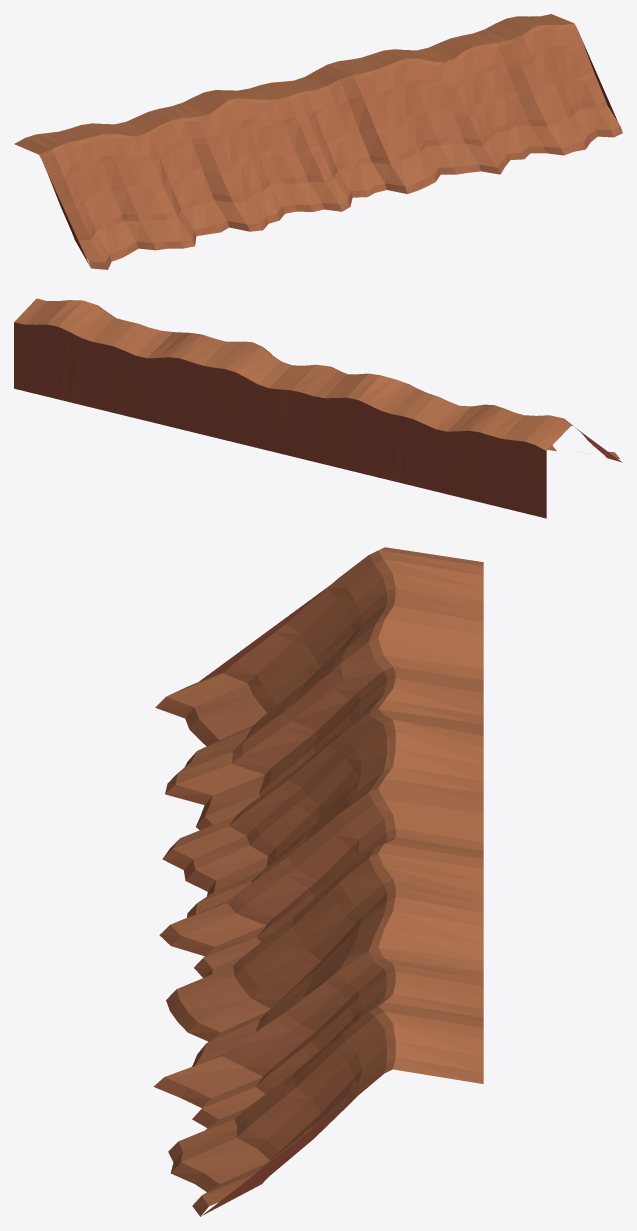
Rendered from asset.glb.
3 renders of one model, top to bottom at view 1: azimuth 30°, elevation 25°; view 2: azimuth 150°, elevation 25°; view 3: azimuth 270°, elevation 25°, orthographic. The views are drawn at different scales.
Visible parts, largest first — view 1: eroded_ridge_wall; view 2: eroded_ridge_wall; view 3: eroded_ridge_wall.
Boxes of the visible parts, bbox=[...] form: eroded_ridge_wall: bbox=[14, 14, 622, 269]; eroded_ridge_wall: bbox=[14, 298, 622, 518]; eroded_ridge_wall: bbox=[153, 547, 483, 1216].
Bounding box in the file's own units: 140 × 20.3 × 37.58.
